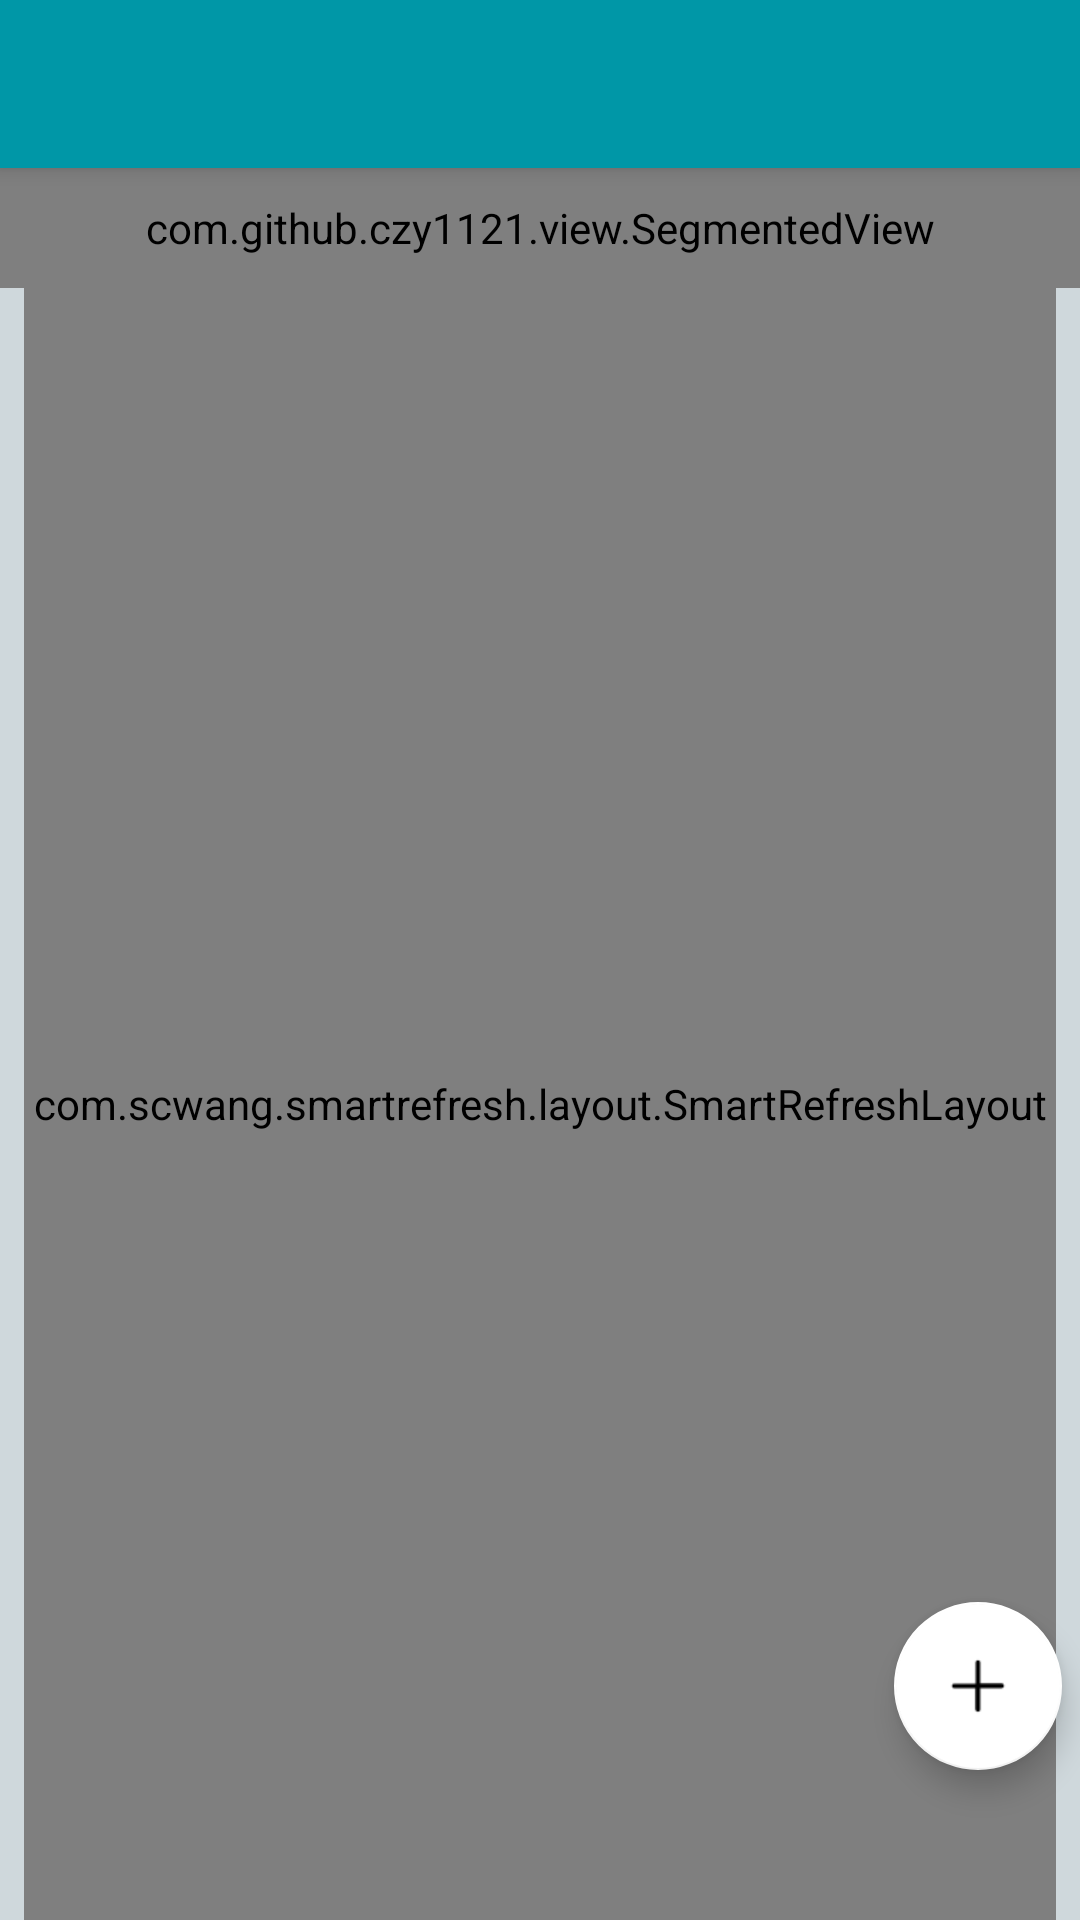

Icons on this 1080w x 1920h Android screen, each with its box as (x1, y1, x2, y2):
add: (894, 1602, 1062, 1770)
